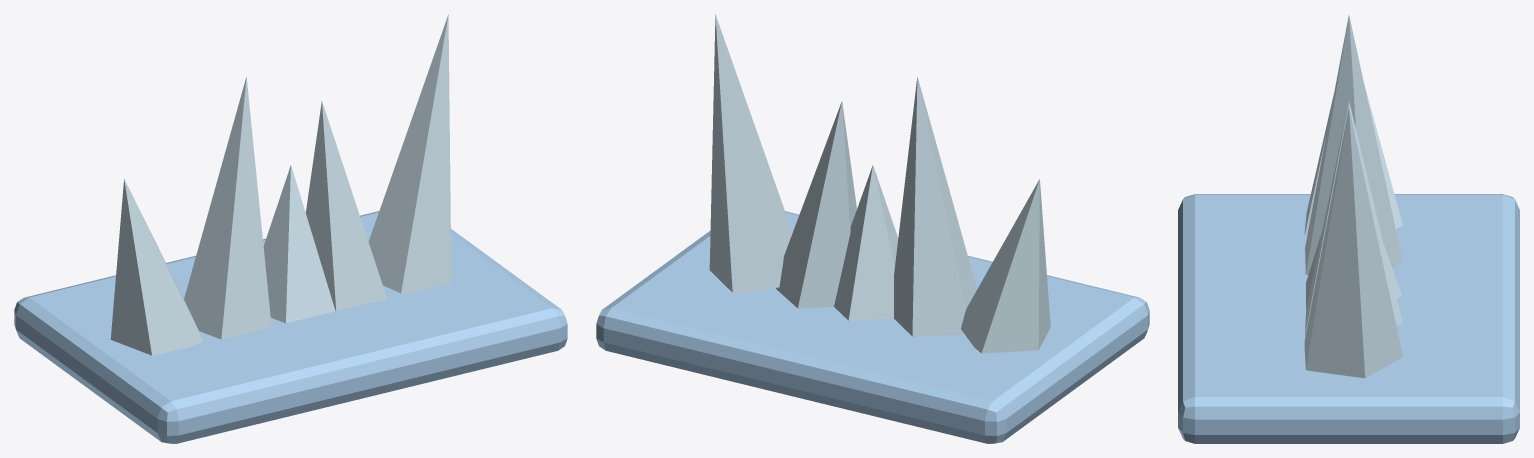
The model's file is spikes.glb.
3 renders of one model, left to right at view 1: azimuth 30°, elevation 25°; view 2: azimuth 150°, elevation 25°; view 3: azimuth 270°, elevation 25°, orthographic. The views are drawn at different scales.
Parts seen in each view (by area): view 1: spikes_mesh; view 2: spikes_mesh; view 3: spikes_mesh.
Part boxes in pixels (box(x1,y1,x2,y2)): spikes_mesh: box(14, 14, 567, 443); spikes_mesh: box(596, 14, 1149, 443); spikes_mesh: box(1178, 15, 1519, 443).
Bounding box in the file's own units: 1.5 × 1.03 × 1.
